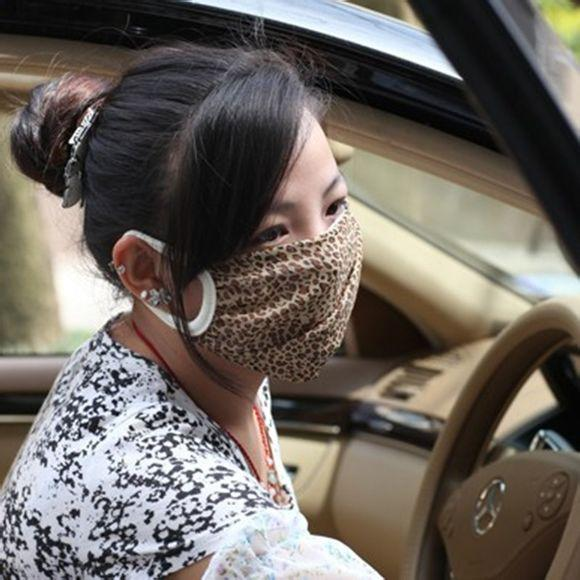OK: (166, 161, 370, 365)
